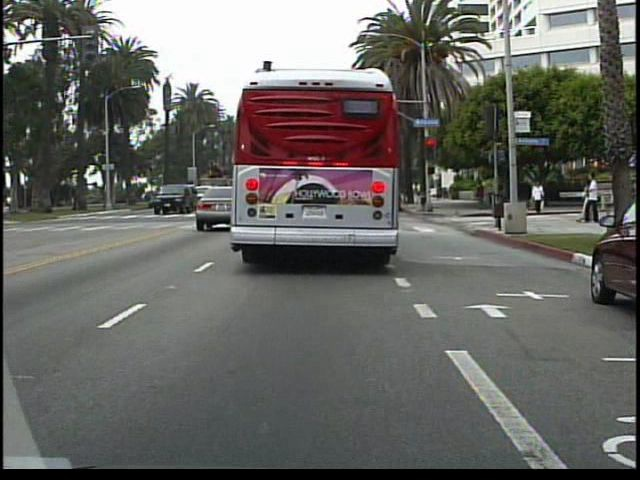person: (581, 170, 603, 227), (473, 173, 490, 213), (531, 178, 547, 216), (526, 177, 542, 211)
